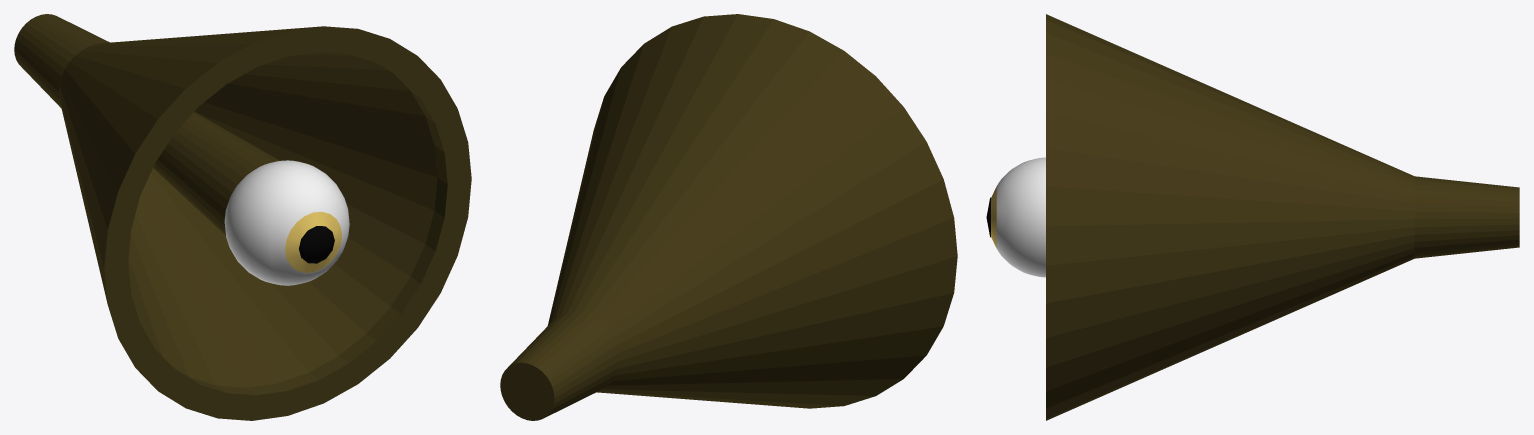
Rendered from EyeballSpeaker.fbx.
3 renders of one model, left to right at view 1: azimuth 30°, elevation 25°; view 2: azimuth 150°, elevation 25°; view 3: azimuth 270°, elevation 25°, orthographic. The views are drawn at different scales.
Visible parts, largest first — view 1: Speaker, Sclera, Iris, Pupil; view 2: Speaker; view 3: Speaker, Sclera.
Boxes of the visible parts, x1,y1,x2,y2 form: Speaker: (14,14,471,420); Sclera: (224,160,349,285); Iris: (285,211,341,272); Pupil: (299,226,334,263); Speaker: (500,14,957,420); Speaker: (1046,14,1519,420); Sclera: (996,157,1045,277).
Bounding box in the file's own units: 200 × 200 × 262.
